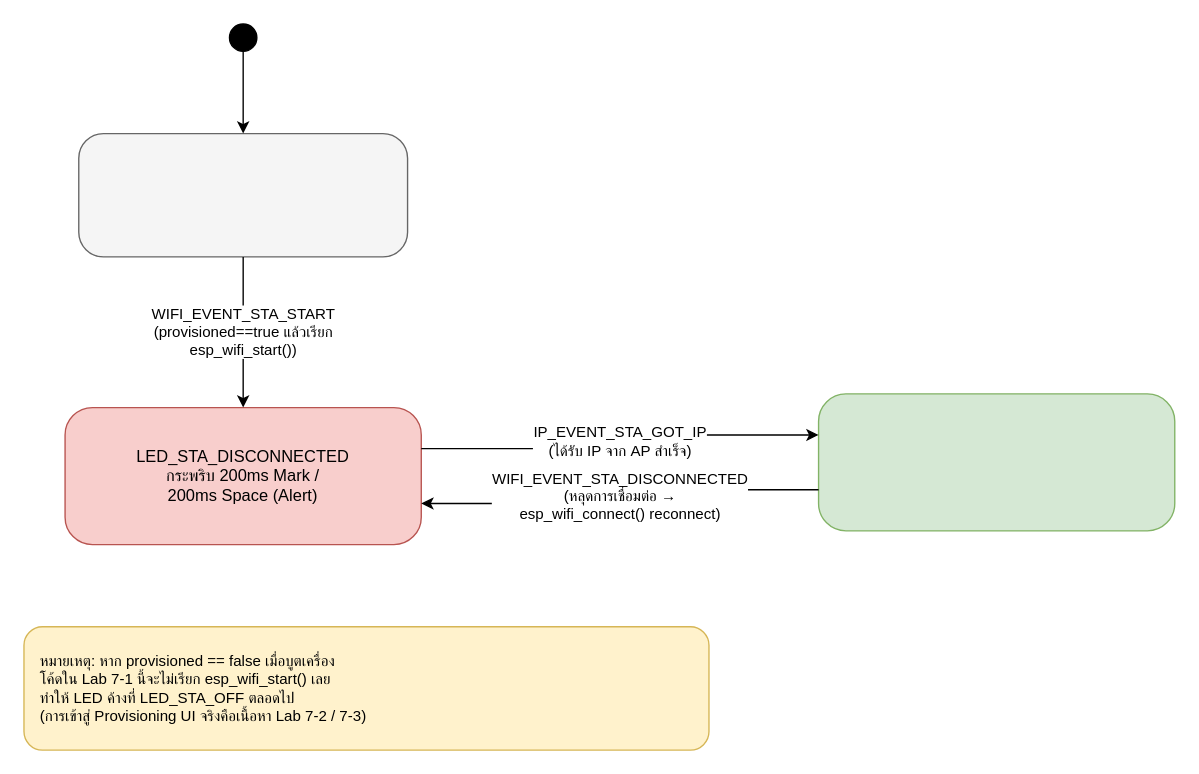
This 1199x774 diagram has some shape labels left out. Here are the shapes that lost their labels. From the top down, the centre of each, then its label:
the point at 242,194: LED_STA_OFF LED ดับตลอดเวลา (ยังไม่เรียก esp_wifi_start())
the point at 996,462: LED_STA_CONNECTED Heartbeat: ติด 200ms ทุก 1 วินาที (ดับ 800ms)
